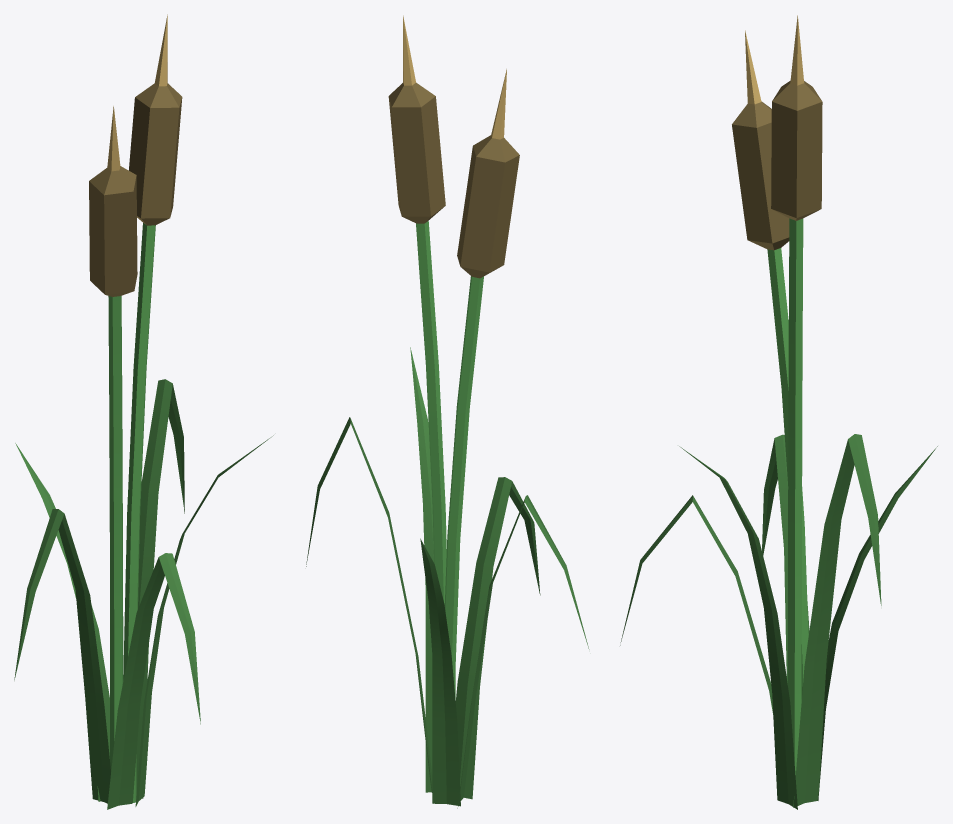
The model's file is Cattail Cluster 2.obj.
3 renders of one model, left to right at view 1: azimuth 30°, elevation 25°; view 2: azimuth 150°, elevation 25°; view 3: azimuth 270°, elevation 25°, orthographic. The views are drawn at different scales.
Bounding box in the file's own units: 32.52 × 106 × 37.85.
